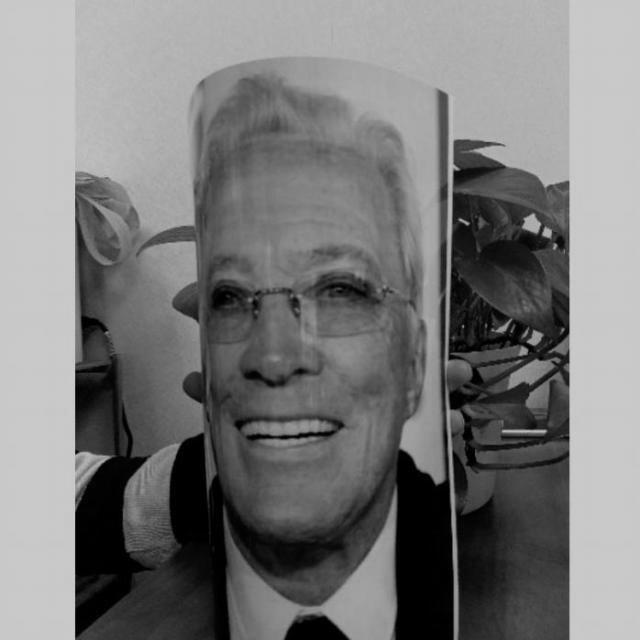fake: (166, 50, 492, 640)
